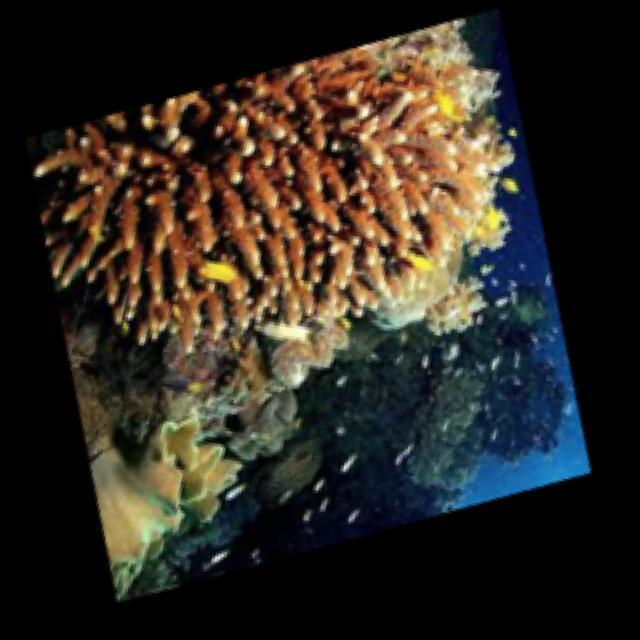Healthy Coral: (29, 64, 477, 355)
